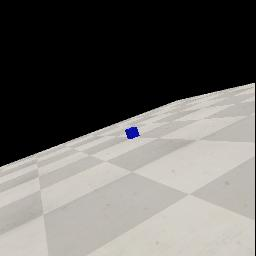box: (125, 127, 140, 139)
